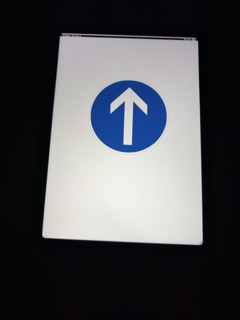GO FORWARD: (90, 79, 166, 154)
